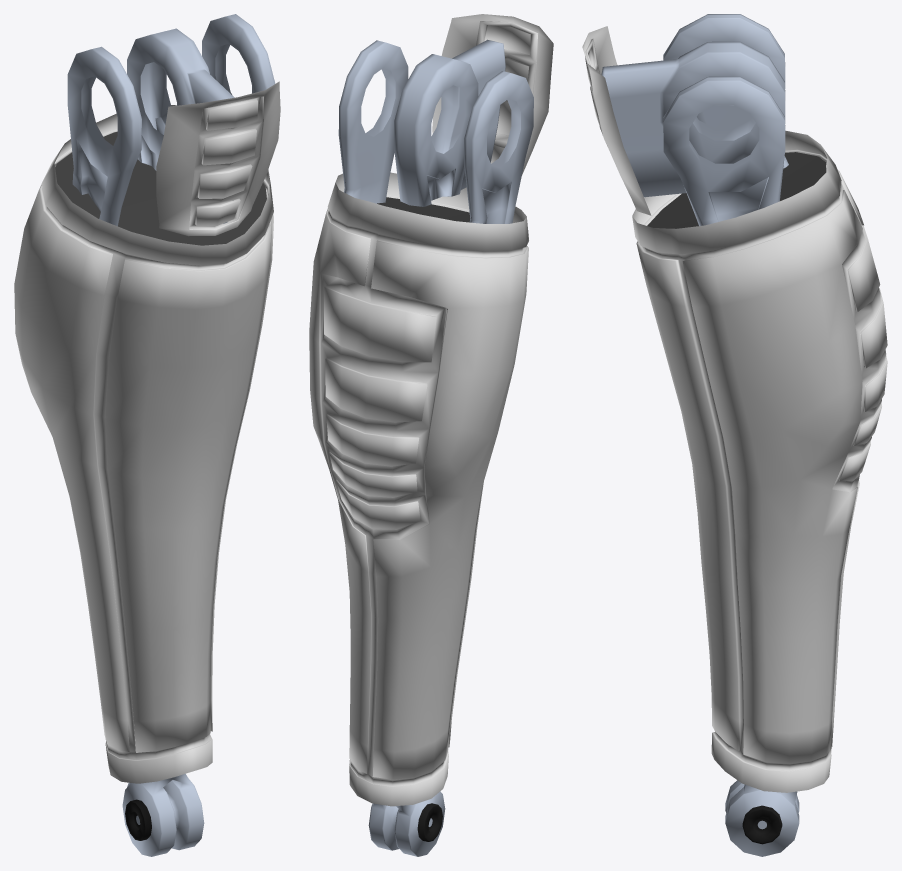
Rendered from rightShin.dae.
3 renders of one model, left to right at view 1: azimuth 30°, elevation 25°; view 2: azimuth 150°, elevation 25°; view 3: azimuth 270°, elevation 25°, orthographic. The views are drawn at different scales.
Visible parts, largest first — view 1: Mesh_020, Mesh_016, Circle_023, Circle_236, Circle_154; view 2: Mesh_020, Circle_023, Circle_236, Mesh_016, Circle_154; view 3: Mesh_020, Circle_023, Circle_236, Circle_154, Mesh_016.
Boxes of the visible parts, bbox=[...] form: Mesh_020: bbox=[14, 105, 273, 783]; Mesh_016: bbox=[156, 81, 280, 236]; Circle_023: bbox=[67, 14, 275, 226]; Circle_236: bbox=[127, 28, 234, 223]; Circle_154: bbox=[122, 774, 204, 856]; Mesh_020: bbox=[309, 172, 528, 806]; Circle_023: bbox=[338, 40, 533, 223]; Circle_236: bbox=[394, 39, 505, 206]; Mesh_016: bbox=[432, 14, 553, 174]; Circle_154: bbox=[368, 791, 445, 856]; Mesh_020: bbox=[632, 130, 887, 792]; Circle_023: bbox=[663, 14, 788, 225]; Circle_236: bbox=[601, 41, 785, 197]; Circle_154: bbox=[725, 780, 799, 856]; Mesh_016: bbox=[582, 26, 651, 215].
Size of the model in its own units: 2.13 by 2.82 by 8.08.
